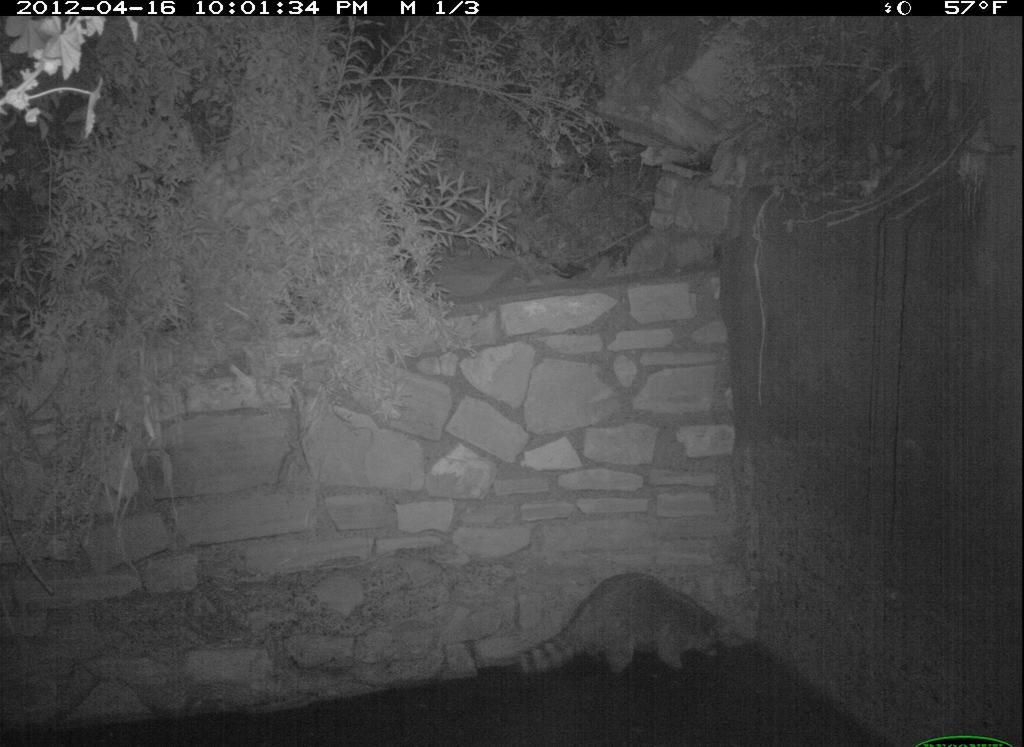raccoon: (491, 560, 742, 699)
